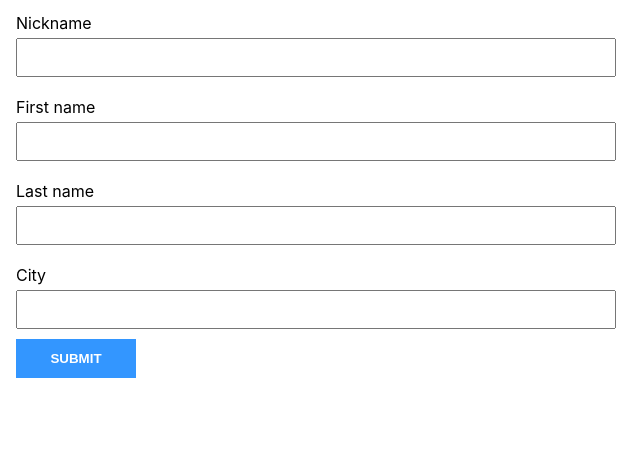
renders validation for last name
Step 1. Type "Smith-Doe" into the field labelled "Last name" → (316, 226), box [16,206,616,245]
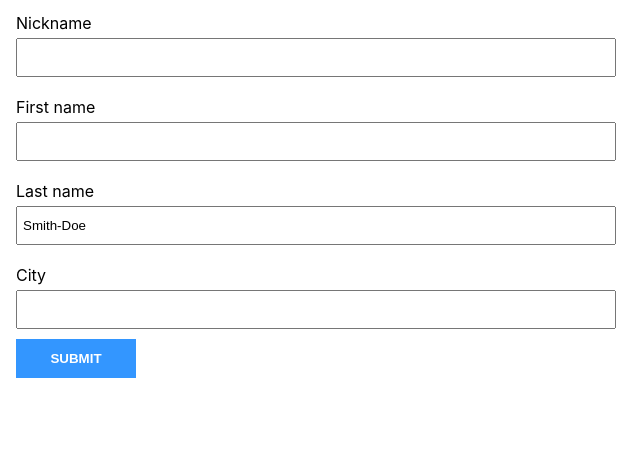
Step 2. Click the button "Submit" → (76, 358), box [16,339,136,378]
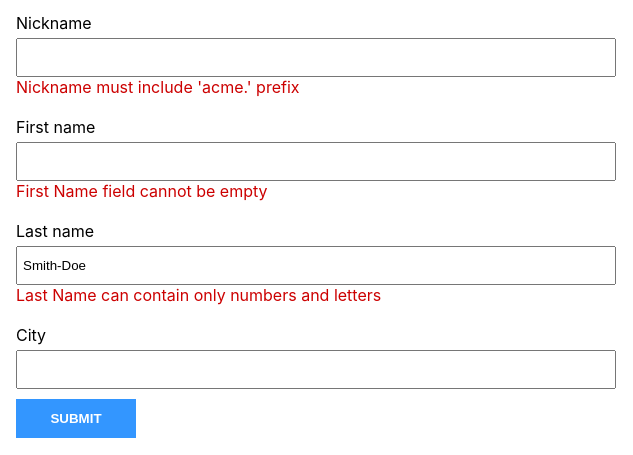
Expected: the text "Last Name can contain only numbers and letters" is shown, [16,285,381,305]
Step 3. Replace the text in the field labelled "Last name Last Name can contain only numbers and letters" with "Smith" → (316, 266), box [16,246,616,285]
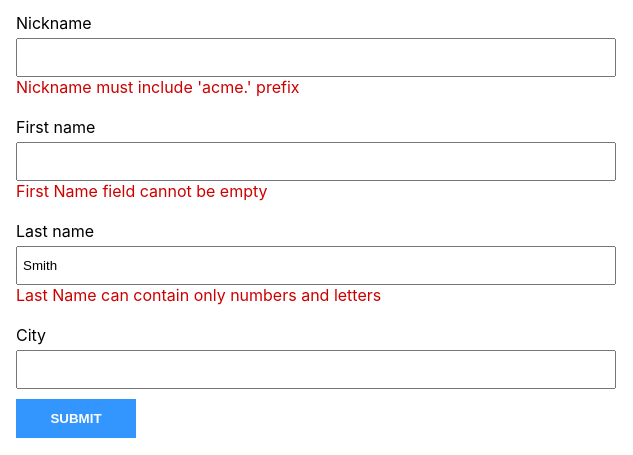
Step 4. Click the button "Submit" → (76, 418), box [16,399,136,438]
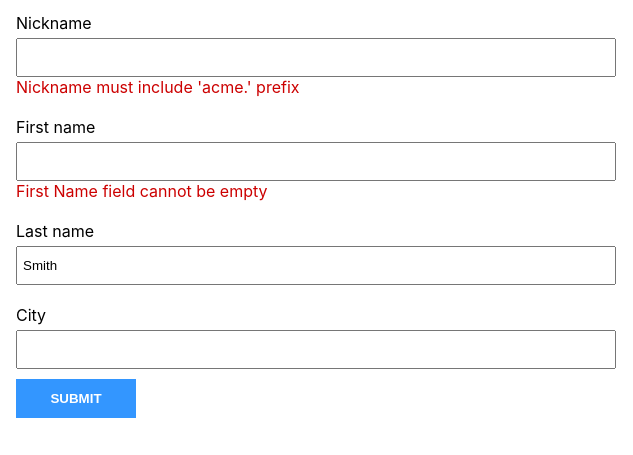
Expected: the text "Last Name can contain only numbers and letters" is gone
